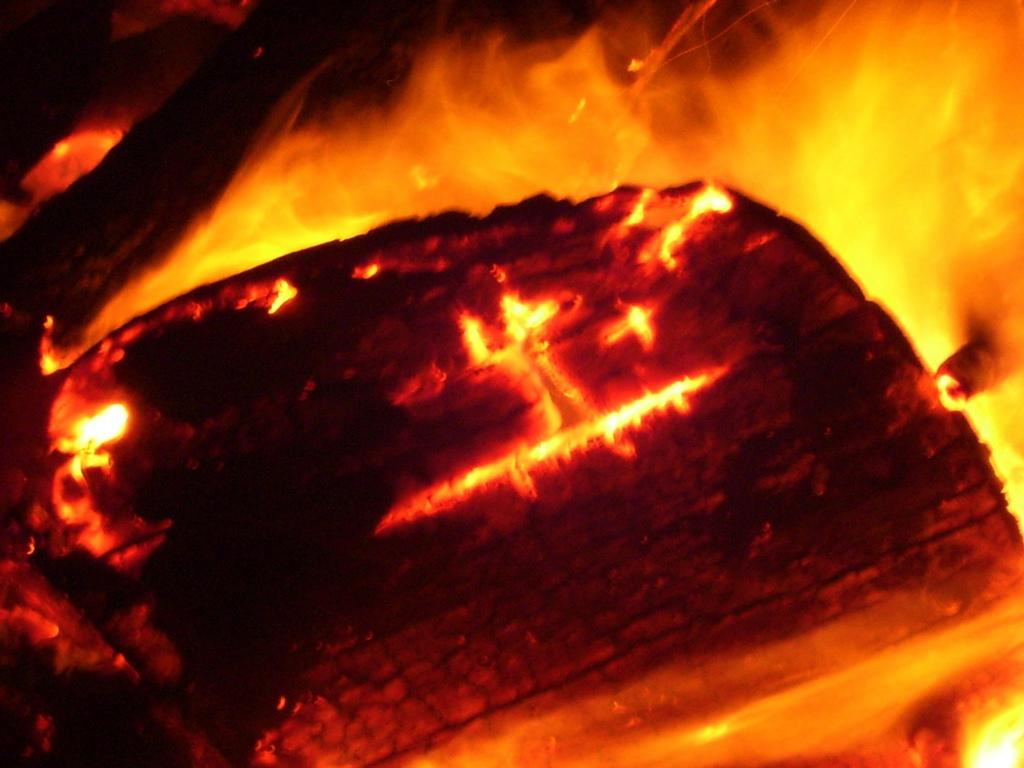fire: (218, 60, 680, 186), (818, 4, 1022, 284)
